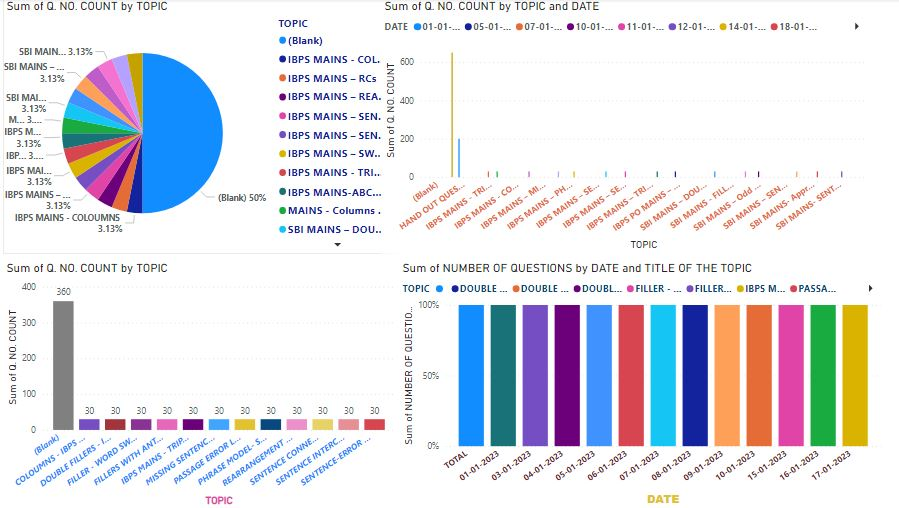

The page's visual inventory and layout, read from the dashboard file:
{"tool":"powerbi","page":{"name":"Page 1","canvas":[1280,720],"ordinal":0},"visuals":[{"type":"pieChart","fields":{"Category":["FEB-2022.TOPIC"],"Y":["Sum(FEB-2022. Q. NO. COUNT)"]},"box":[10.1,0,557.7,359.5],"z":0},{"type":"clusteredColumnChart","fields":{"Category":["FEB-2023.TOPIC"],"Y":["Sum(FEB-2023. Q. NO. COUNT)"]},"box":[10.1,369.6,557.7,351.1],"z":1},{"type":"lineClusteredColumnComboChart","fields":{"Y":["Sum(JAN - 2022. Q. NO. COUNT)"],"Category":["JAN - 2022.TOPIC"],"Series":["JAN - 2022.DATE"]},"box":[542.6,0,690.4,359.5],"z":2},{"type":"hundredPercentStackedColumnChart","fields":{"Y":["Sum(JAN-2023.NUMBER OF QUESTIONS)"],"Category":["JAN-2023.DATE"],"Series":["JAN-2023.TITLE OF THE TOPIC"]},"box":[567.8,369.6,683.7,351.1],"z":3}]}

Visuals, with their boxes in screenshot pixels (x1, y1, x2, y2), scaled from the page's 1280x720 canvas onto the 899x508 screenshot:
pieChart - FEB-2022.TOPIC x Sum(FEB-2022. Q. NO. COUNT): [left=7, top=0, right=399, bottom=254]
clusteredColumnChart - FEB-2023.TOPIC x Sum(FEB-2023. Q. NO. COUNT): [left=7, top=261, right=399, bottom=507]
lineClusteredColumnComboChart - Sum(JAN - 2022. Q. NO. COUNT) x JAN - 2022.TOPIC: [left=381, top=0, right=866, bottom=254]
hundredPercentStackedColumnChart - Sum(JAN-2023.NUMBER OF QUESTIONS) x JAN-2023.DATE: [left=399, top=261, right=879, bottom=507]
